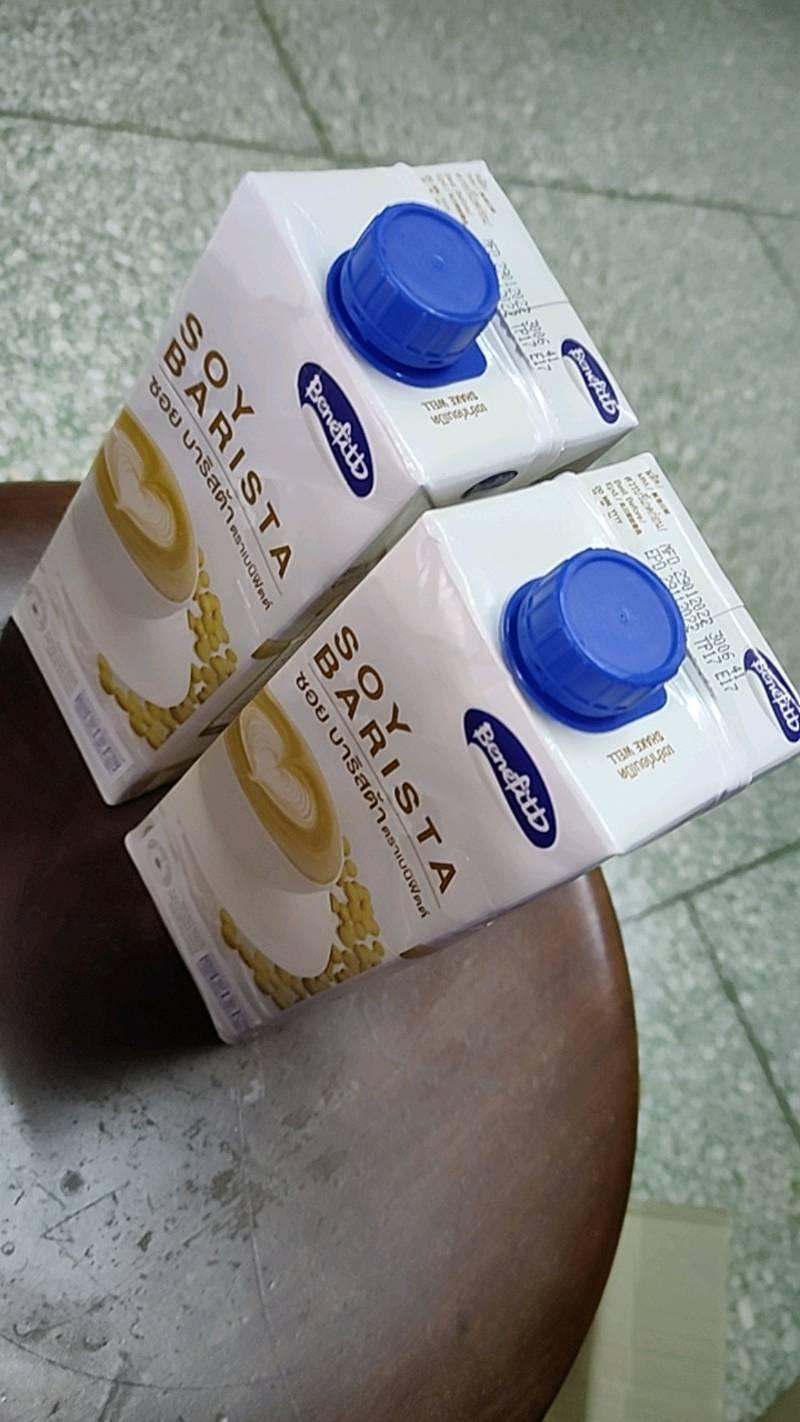cardboard: (17, 162, 634, 802), (126, 454, 799, 1040)
